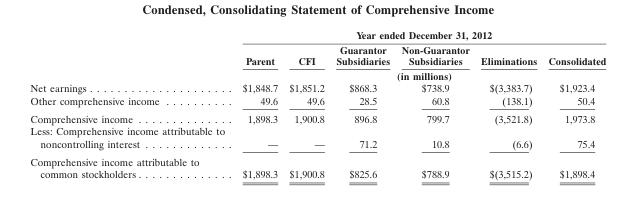table: (29, 28, 605, 179)
table column: (29, 28, 232, 179), (395, 28, 474, 179), (474, 28, 542, 179), (329, 28, 395, 179), (542, 28, 605, 179), (232, 28, 282, 179), (282, 28, 329, 179)
table column header: (29, 28, 605, 81)
table row: (29, 124, 605, 152), (29, 152, 605, 179), (29, 42, 605, 67), (29, 94, 605, 109), (29, 109, 605, 124), (29, 28, 605, 42), (29, 67, 605, 81), (29, 81, 605, 94)
table spanning cell: (232, 28, 605, 42), (232, 67, 605, 81)
